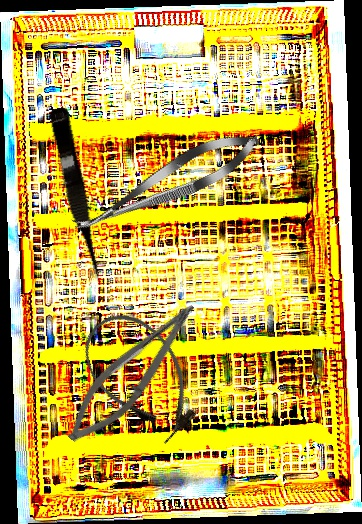Cannula: (68, 297, 215, 455)
Micro Scissor: (55, 286, 207, 458), (66, 120, 267, 247), (43, 106, 108, 286)
